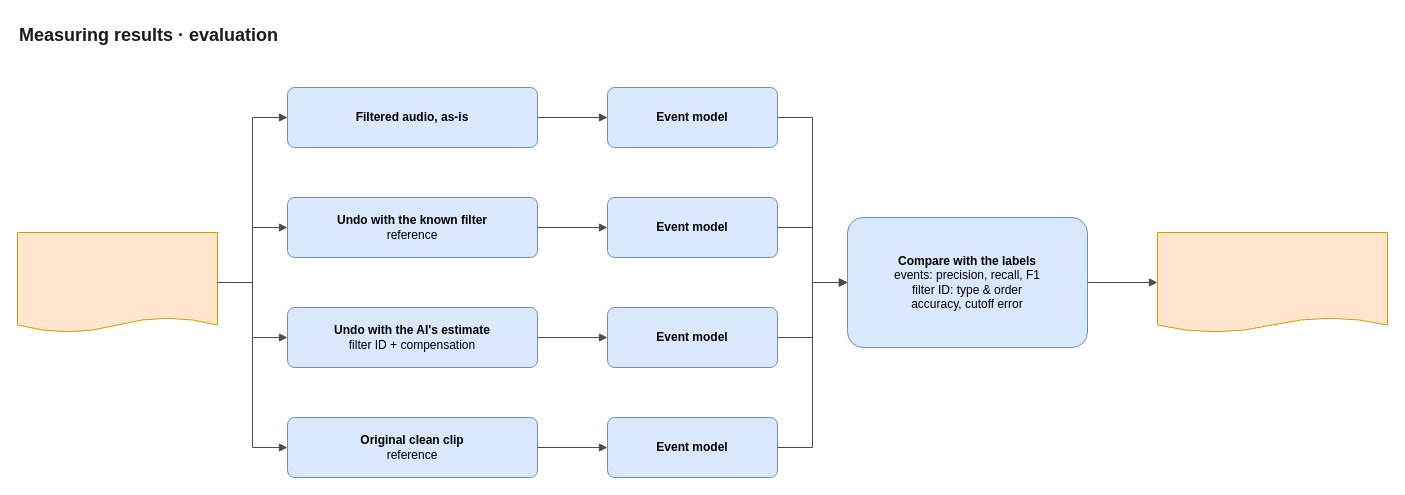
This 1405x495 diagram has some shape labels left out. Here are the shapes that lost their labels. From the top down, the box of each, then its label:
(16, 232, 218, 332): Held-out test clips 13 speakers never used in training
(1156, 232, 1388, 332): Comparison results per version, split by noise before / after the filter
